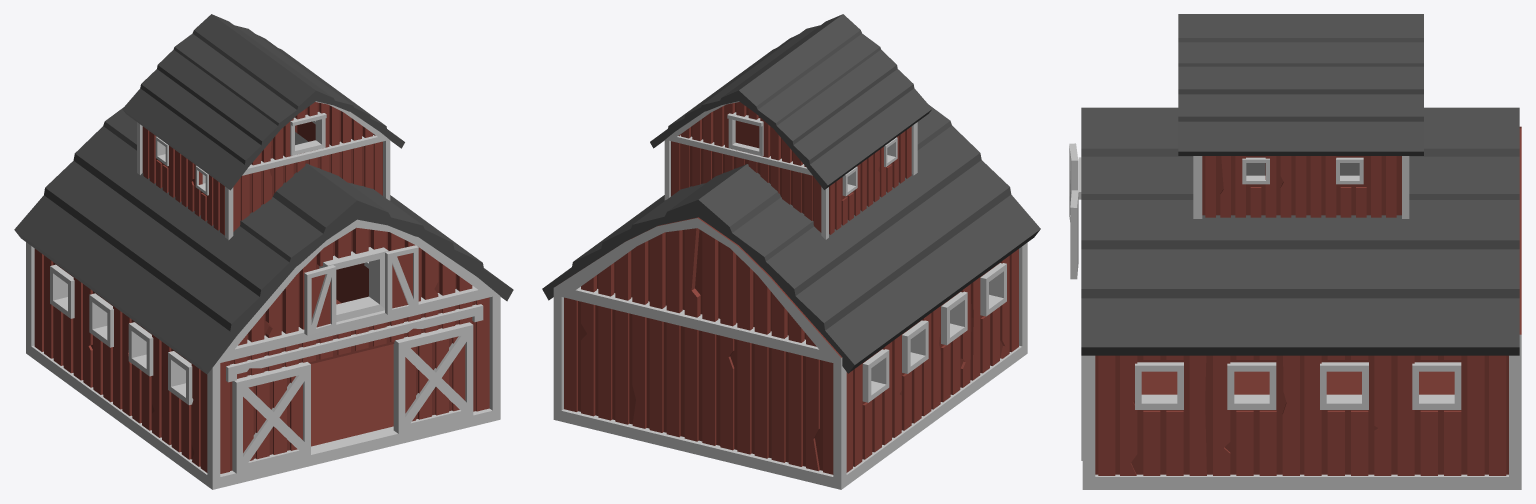
File: BigBarn.gltf
3 views of the same model, side by side, from view 1: azimuth 30°, elevation 25°; view 2: azimuth 150°, elevation 25°; view 3: azimuth 270°, elevation 25° (orthographic). The views are drawn at different scales.
Visible parts, largest first — view 1: BigBarn_Cube.034, BigBarn_Door_Cube.009, BigBarn_Door2_Cube.012, BigBarn_Window_Cube.017, BigBarn_Window2_Cube.016; view 2: BigBarn_Cube.034; view 3: BigBarn_Cube.034, BigBarn_Window_Cube.017, BigBarn_Window2_Cube.016.
Part boxes in pixels (left/top/right/bottom): BigBarn_Cube.034: left=14, top=14, right=513, bottom=489; BigBarn_Door_Cube.009: left=393, top=322, right=473, bottom=433; BigBarn_Door2_Cube.012: left=232, top=362, right=310, bottom=473; BigBarn_Window_Cube.017: left=385, top=245, right=418, bottom=314; BigBarn_Window2_Cube.016: left=304, top=265, right=336, bottom=335; BigBarn_Cube.034: left=542, top=14, right=1040, bottom=489; BigBarn_Cube.034: left=1078, top=14, right=1521, bottom=489; BigBarn_Window_Cube.017: left=1070, top=190, right=1078, bottom=279; BigBarn_Window2_Cube.016: left=1069, top=143, right=1078, bottom=221.
Size of the model in its own units: 7.73 by 7.89 by 8.22.
